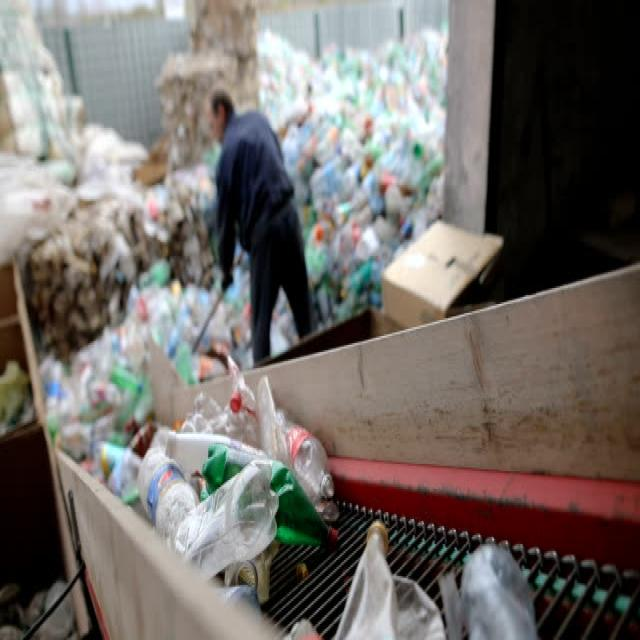plastic: (129, 391, 341, 573)
